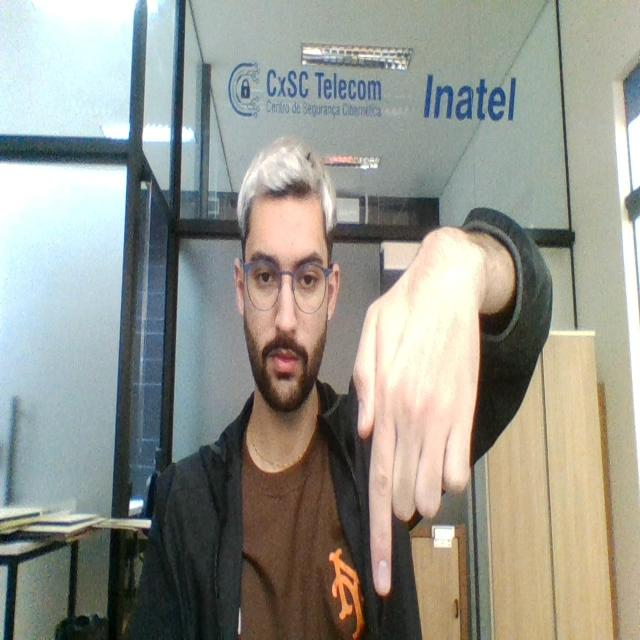Q: (350, 222, 480, 603)
